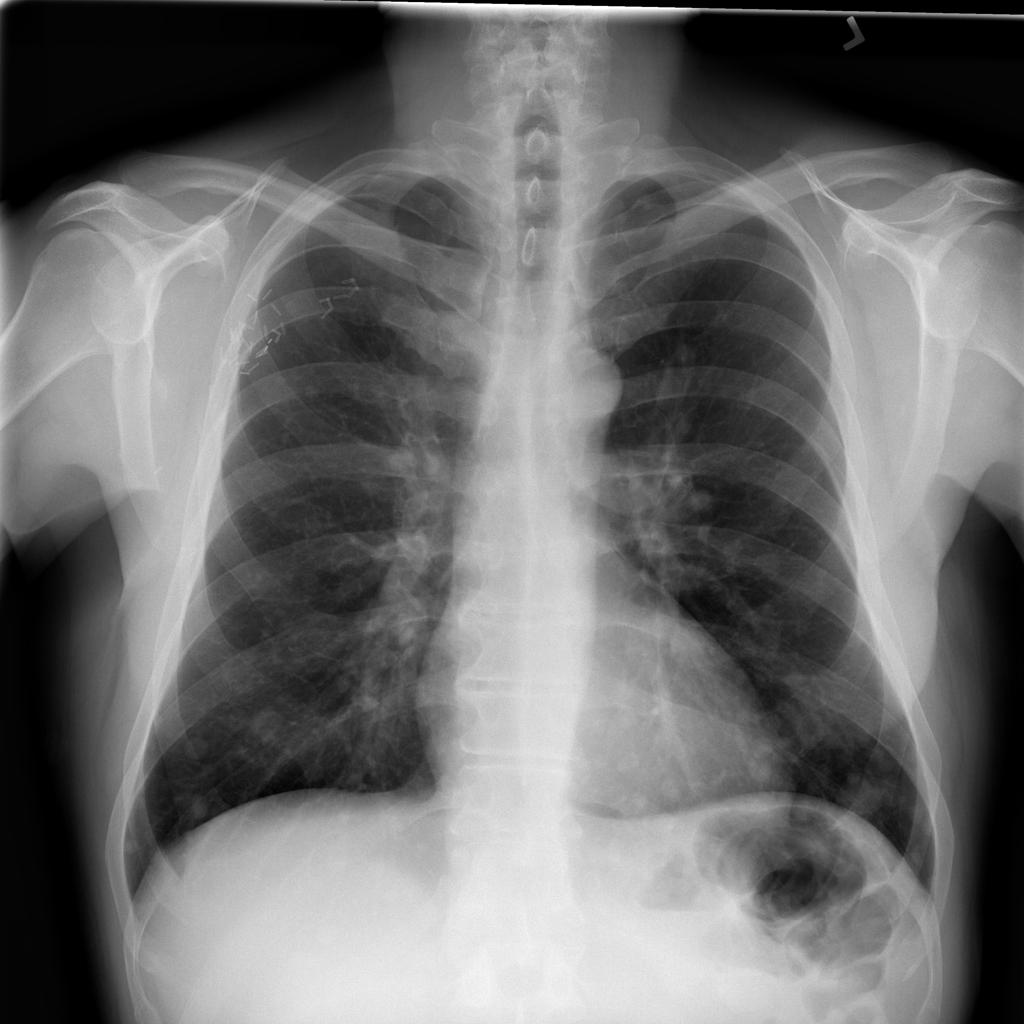nodule: (725, 727, 802, 795), (229, 692, 304, 761), (725, 530, 801, 596), (168, 723, 221, 773), (168, 781, 222, 830), (295, 370, 329, 408)
